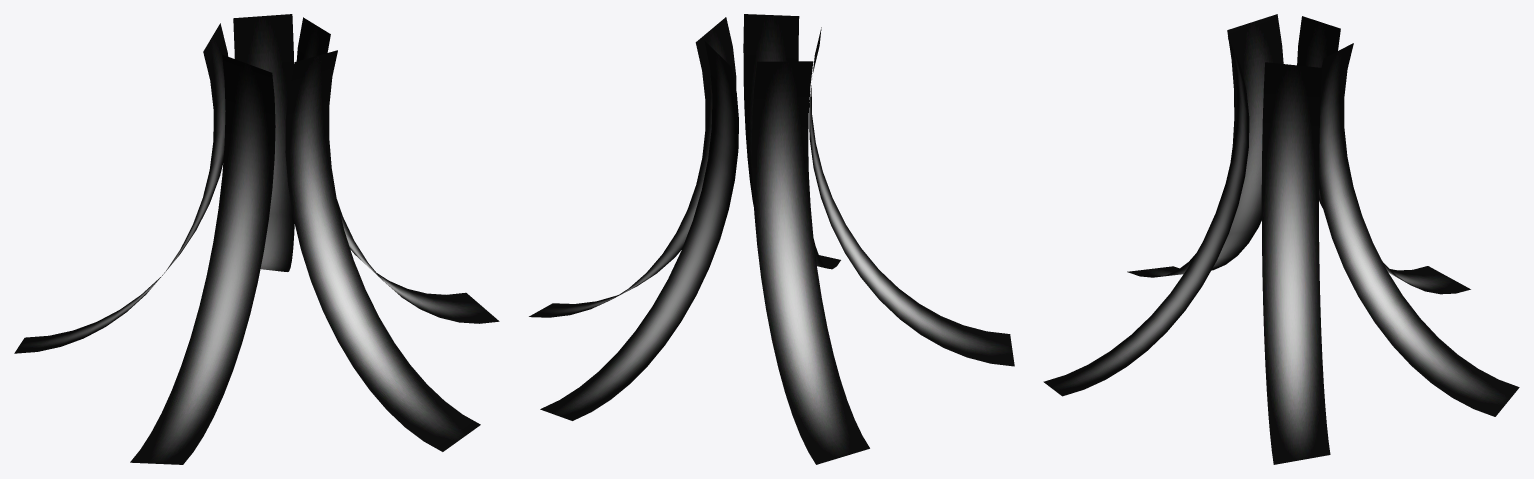
File: vfx_kurp_0430.dae
3 views of the same model, side by side, from view 1: azimuth 30°, elevation 25°; view 2: azimuth 150°, elevation 25°; view 3: azimuth 270°, elevation 25° (orthographic). The views are drawn at different scales.
Parts seen in each view (by area): view 1: vfx_kurp_0430; view 2: vfx_kurp_0430; view 3: vfx_kurp_0430.
Part boxes in pixels (left/top/right/bottom): vfx_kurp_0430: left=14, top=14, right=499, bottom=464; vfx_kurp_0430: left=529, top=14, right=1014, bottom=464; vfx_kurp_0430: left=1043, top=14, right=1519, bottom=464.
Size of the model in its own units: 11.27 by 11.43 by 8.5.
Materials: 1 (1 with a texture image).
